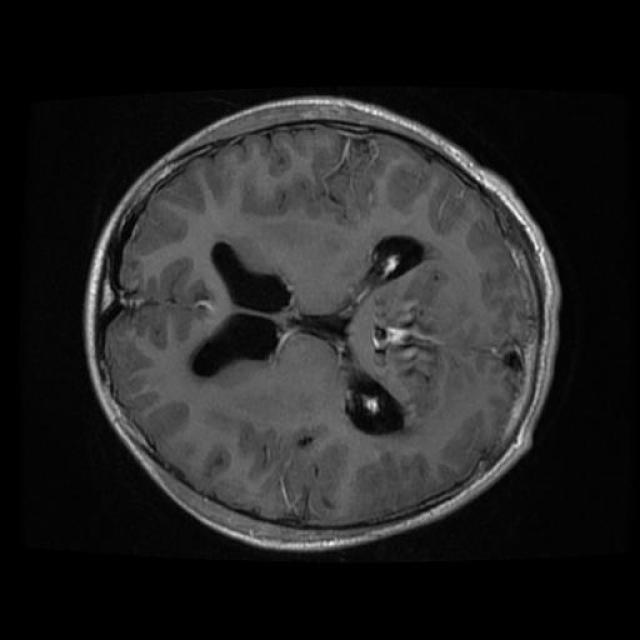Glioma: (370, 261, 446, 397)
